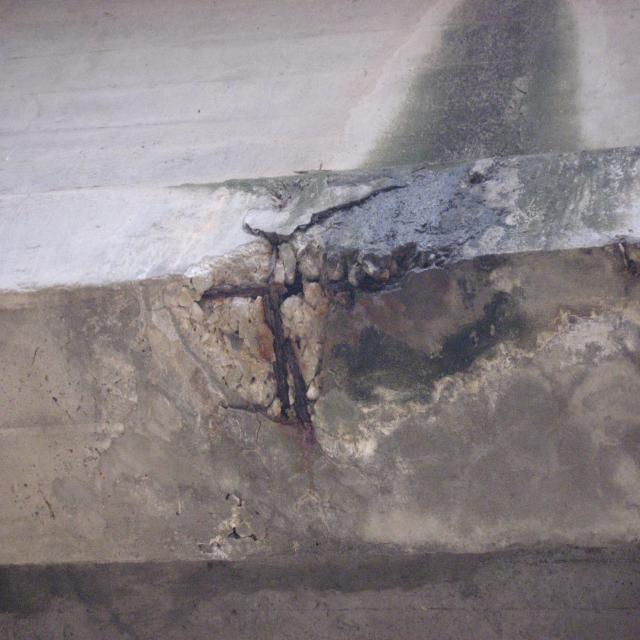corrosion: (185, 189, 431, 463), (606, 238, 640, 296)
